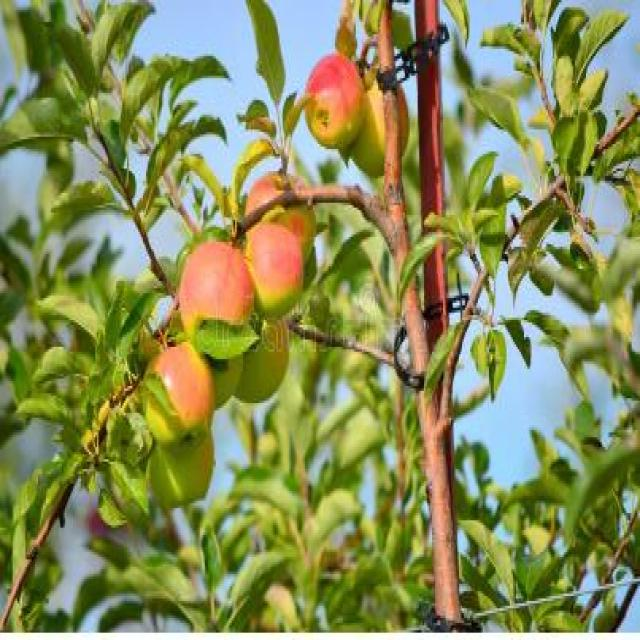fruit: (178, 240, 255, 340), (148, 342, 214, 441), (245, 172, 316, 264), (303, 50, 365, 154), (244, 222, 307, 320), (351, 79, 406, 177), (148, 427, 213, 507), (233, 322, 289, 404), (244, 175, 286, 224), (210, 350, 244, 407)
